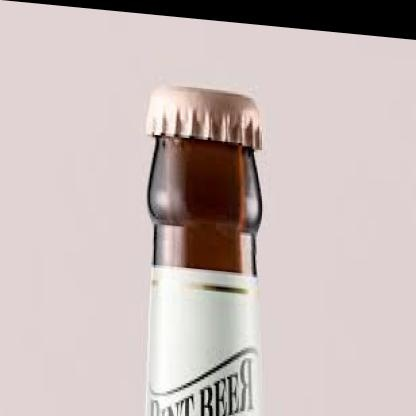trash: (147, 86, 261, 415)
